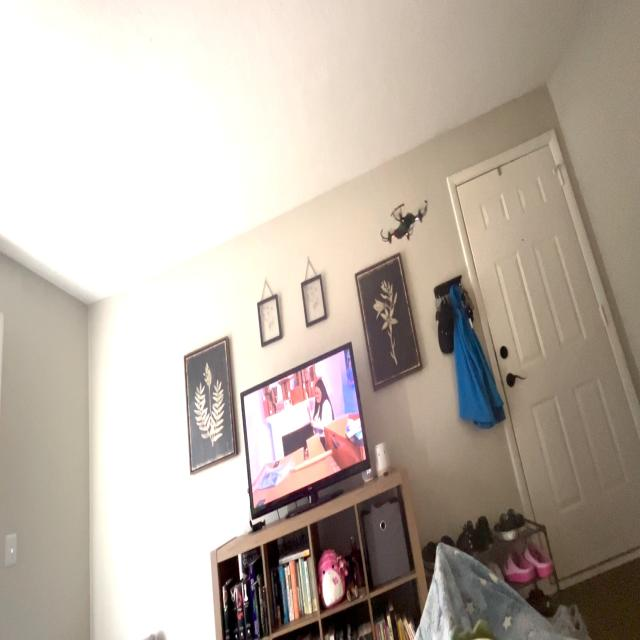drone: (374, 190, 434, 252)
